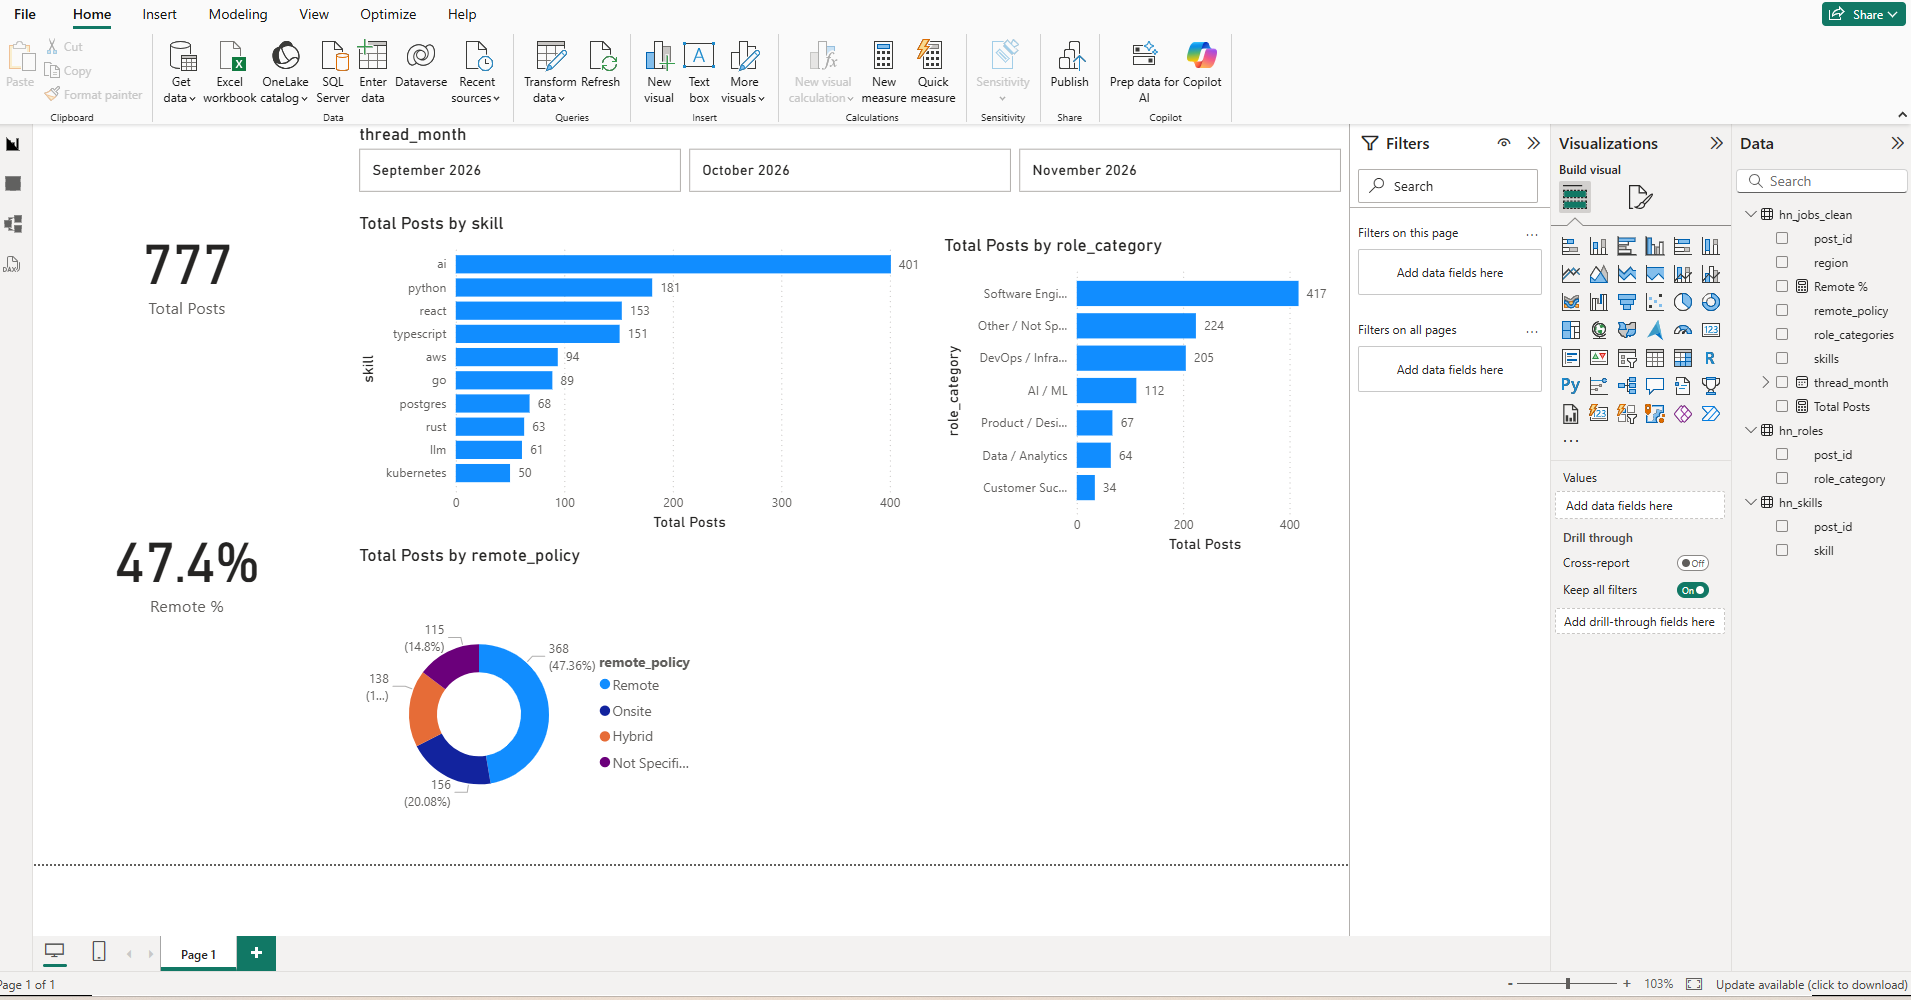

The dashboard page shown, as its layout file describes it:
{"tool":"powerbi","page":{"name":"Page 1","canvas":[1280,720],"ordinal":0},"visuals":[{"type":"card","fields":{"Values":["hn_jobs_clean.Total Posts"]},"box":[10,0,280,280],"z":0},{"type":"card","fields":{"Values":["hn_jobs_clean.Remote %"]},"box":[10,290,280,280],"z":1},{"type":"advancedSlicerVisual","fields":{"Values":["hn_jobs_clean.thread_month"]},"box":[312.2,0,967.8,72],"z":2},{"type":"clusteredBarChart","fields":{"Category":["hn_skills.skill"],"Y":["hn_jobs_clean.Total Posts"]},"box":[312.2,86.6,569,313.2],"z":3},{"type":"clusteredBarChart","fields":{"Category":["hn_roles.role_category"],"Y":["hn_jobs_clean.Total Posts"]},"box":[881.2,108,398.8,313.2],"z":4},{"type":"donutChart","fields":{"Category":["hn_jobs_clean.remote_policy"],"Y":["hn_jobs_clean.Total Posts"]},"box":[312.2,409.5,348.2,310.3],"z":5}]}

Visuals, with their boxes on the page's 1280x720 design canvas (x1, y1, x2, y2). These are canvas units, not pixel positions in the 1911x1000 screenshot, which may show the page scaled, cropped or inside an application window:
card - hn_jobs_clean.Total Posts: [left=10, top=0, right=290, bottom=280]
card - hn_jobs_clean.Remote %: [left=10, top=290, right=290, bottom=570]
advancedSlicerVisual - hn_jobs_clean.thread_month: [left=312, top=0, right=1280, bottom=72]
clusteredBarChart - hn_skills.skill x hn_jobs_clean.Total Posts: [left=312, top=87, right=881, bottom=400]
clusteredBarChart - hn_roles.role_category x hn_jobs_clean.Total Posts: [left=881, top=108, right=1280, bottom=421]
donutChart - hn_jobs_clean.remote_policy x hn_jobs_clean.Total Posts: [left=312, top=410, right=660, bottom=720]
